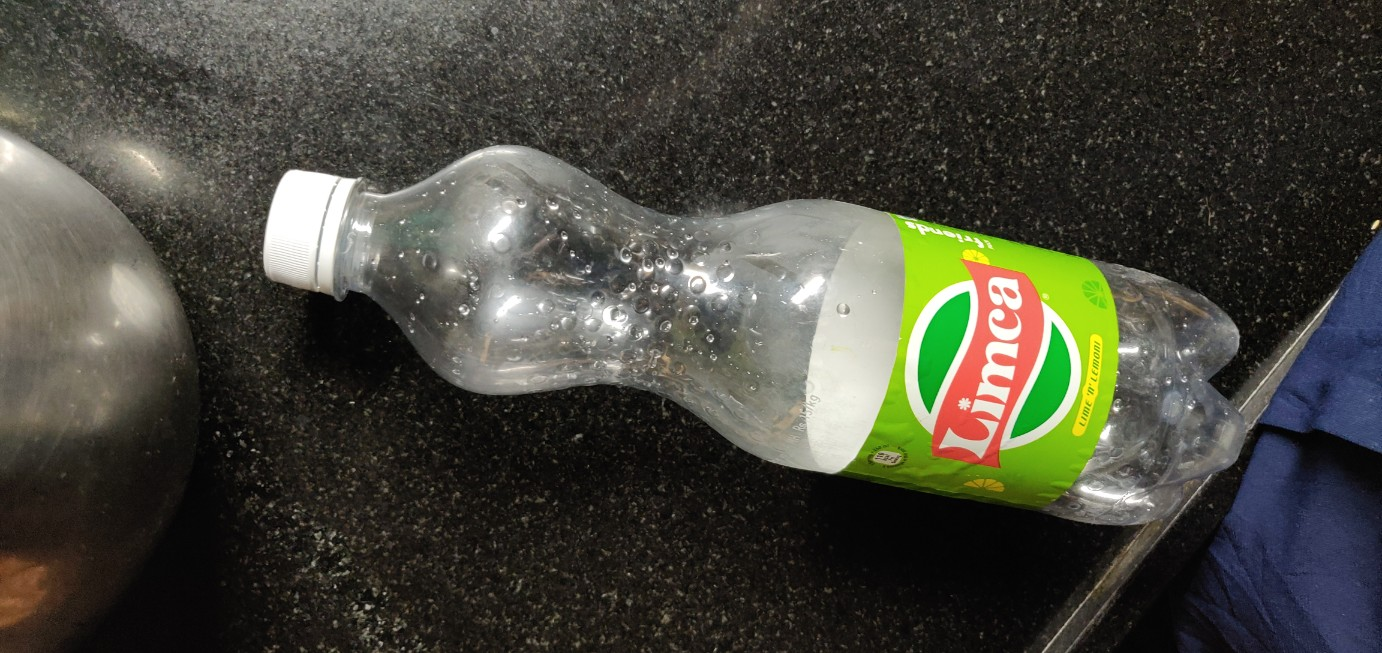Electronics: (222, 126, 1276, 555)
